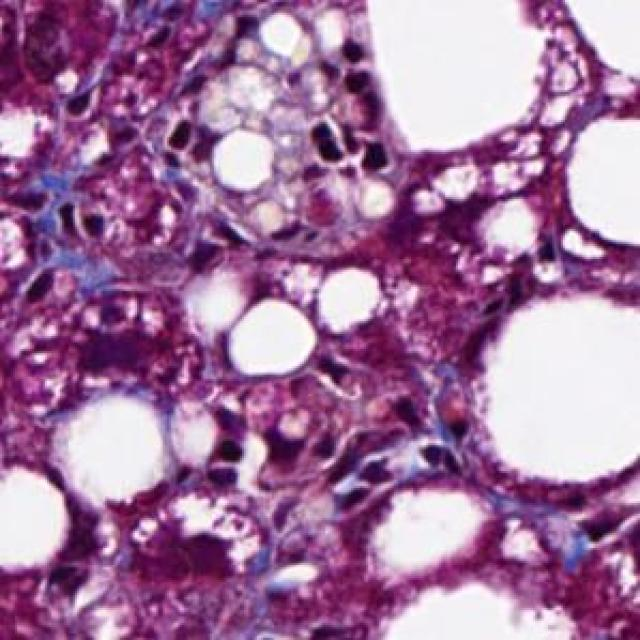inflammation: (199, 398, 469, 516), (298, 28, 396, 180), (0, 184, 118, 310)
